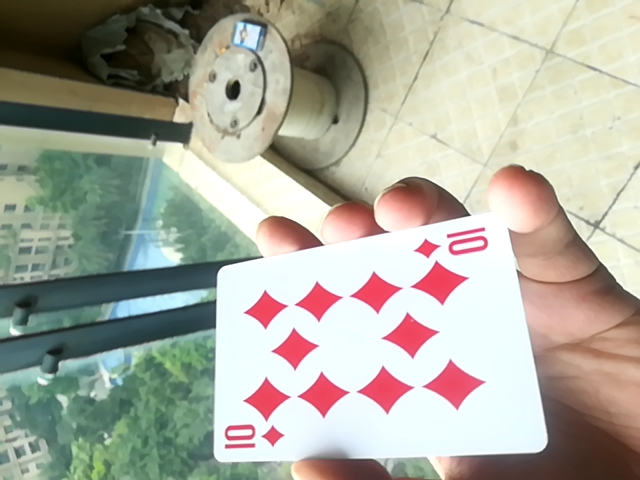fk 10: (207, 208, 542, 468)
